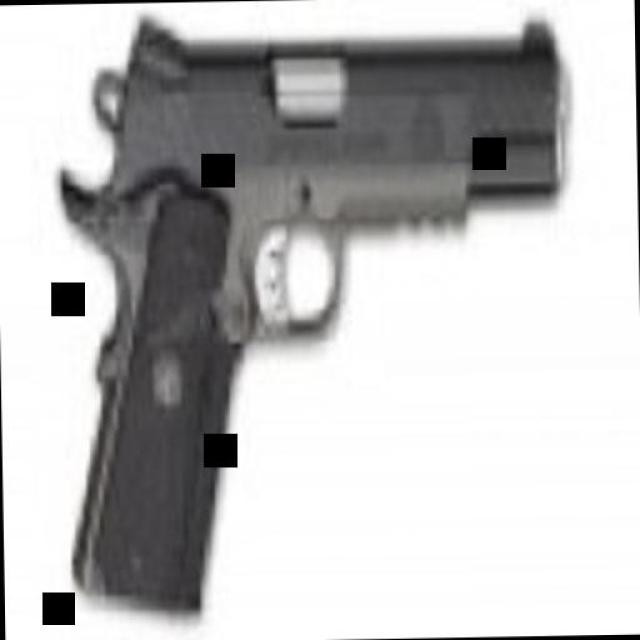gun: (49, 0, 575, 615)
